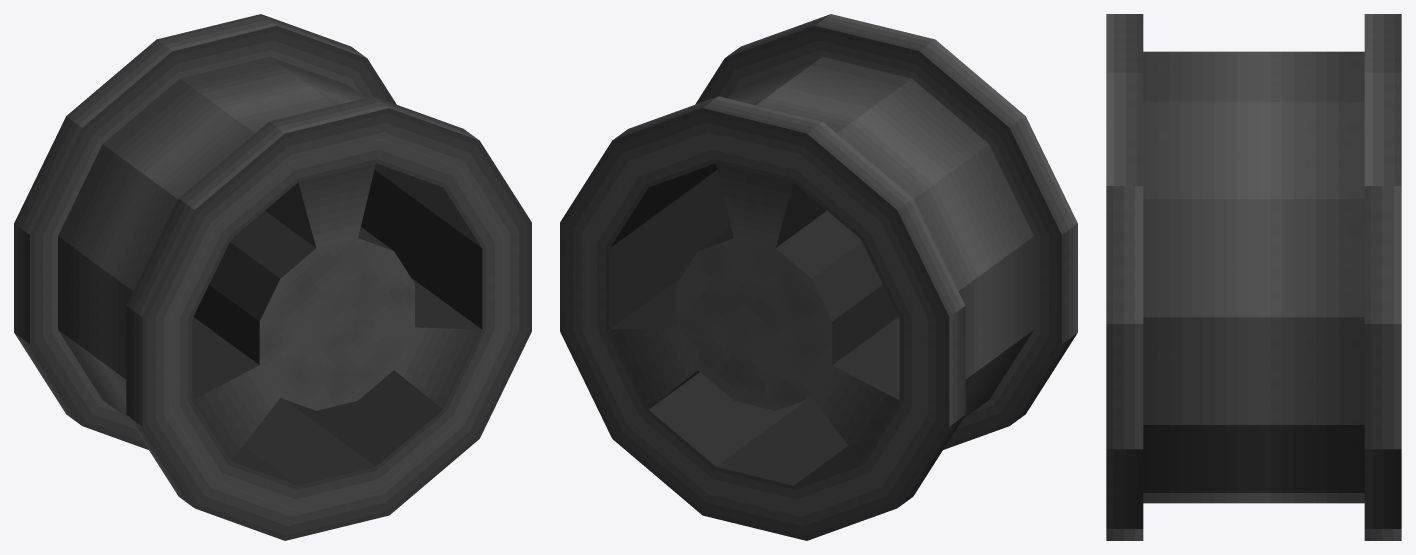
The model's file is pulley.obj.
3 renders of one model, left to right at view 1: azimuth 30°, elevation 25°; view 2: azimuth 150°, elevation 25°; view 3: azimuth 270°, elevation 25°, orthographic. The views are drawn at different scales.
Visible parts, largest first — view 1: cylinder.001; view 2: cylinder.001; view 3: cylinder.001.
Part boxes in pixels (x1,y1,x2,y2): cylinder.001: (14, 14, 531, 540); cylinder.001: (560, 14, 1077, 540); cylinder.001: (1106, 14, 1401, 540).
Size of the model in its own units: 0.875 by 0.875 by 0.5.
